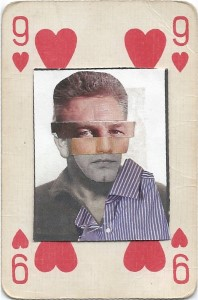NineOfHearts: (1, 1, 197, 297)
